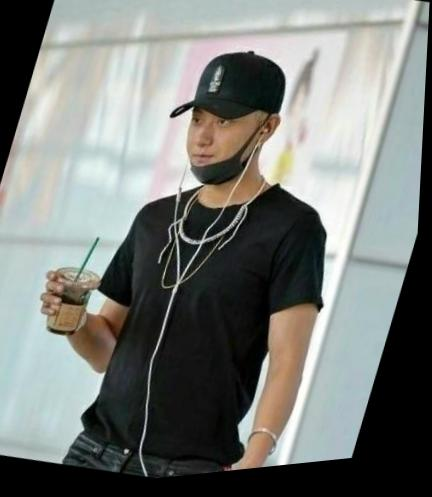WRONG: (177, 100, 271, 197)
